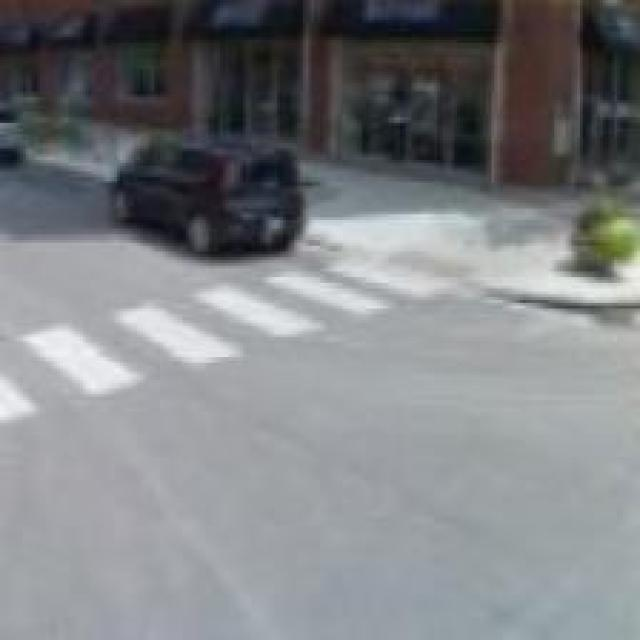walk-crossing: (0, 264, 446, 473)
